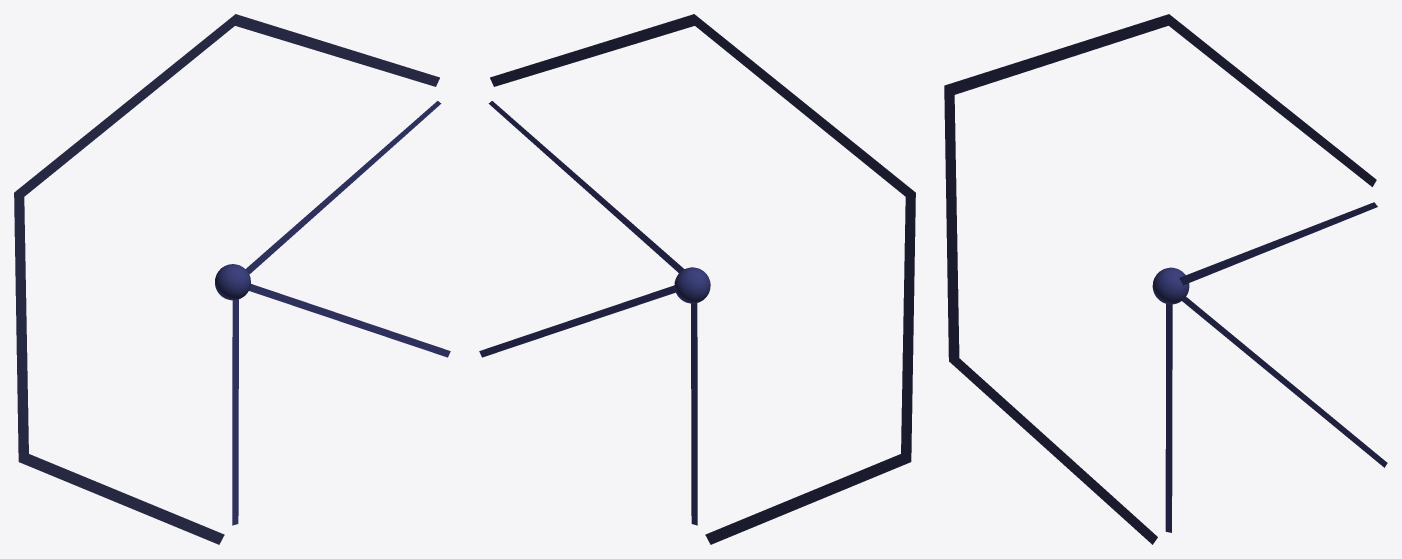
The model's file is rogo.glb.
3 views of the same model, side by side, from view 1: azimuth 30°, elevation 25°; view 2: azimuth 150°, elevation 25°; view 3: azimuth 330°, elevation 25° (orthographic).
Parts seen in each view (by area): view 1: rogo; view 2: rogo; view 3: rogo.
Part boxes in pixels (x1,y1,x2,y2): rogo: (14, 14, 450, 544); rogo: (479, 14, 915, 544); rogo: (944, 14, 1387, 544).
Bounding box in the file's own units: 3.65 × 4.21 × 0.2628.
1 material, 1 textured.
